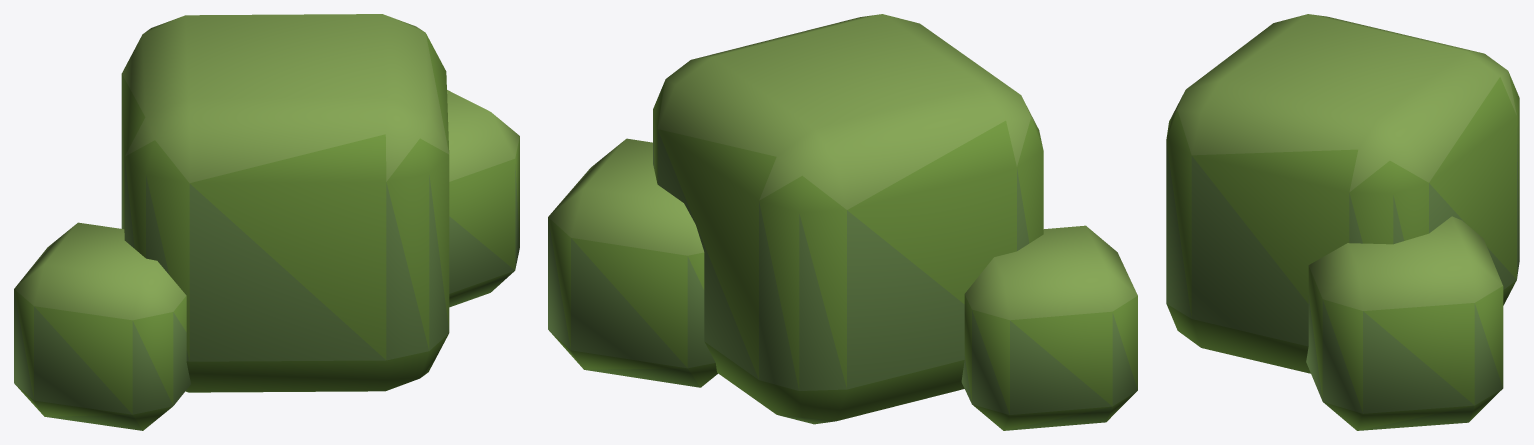
Rendered from itch_kaykit_forest_bush_2_d_color1.glb.
3 views of the same model, side by side, from view 1: azimuth 30°, elevation 25°; view 2: azimuth 150°, elevation 25°; view 3: azimuth 270°, elevation 25° (orthographic). The views are drawn at different scales.
Visible parts, largest first — view 1: Bush_2_D_Color1; view 2: Bush_2_D_Color1; view 3: Bush_2_D_Color1.
Boxes of the visible parts, <box> form: Bush_2_D_Color1: <box>14,14,519,430</box>; Bush_2_D_Color1: <box>548,14,1137,430</box>; Bush_2_D_Color1: <box>1166,14,1519,430</box>.
Size of the model in its own units: 0.96 by 0.5239 by 0.6219.
